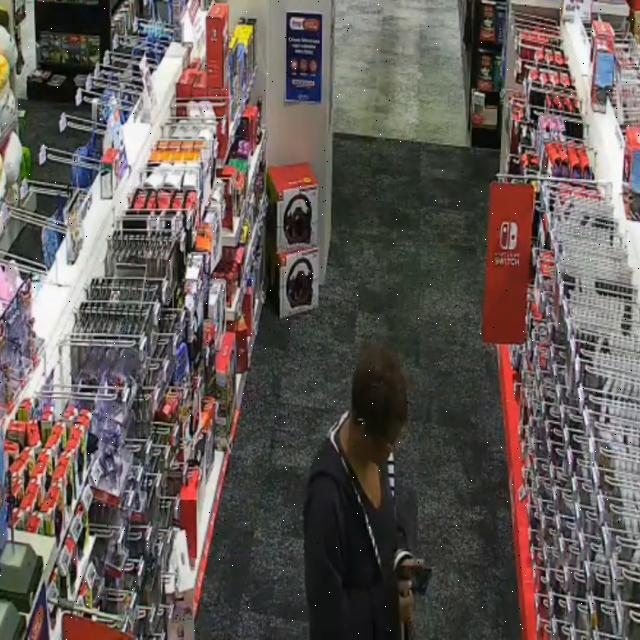hands: (399, 581, 414, 628), (396, 558, 425, 569)
person: (304, 347, 412, 639)
